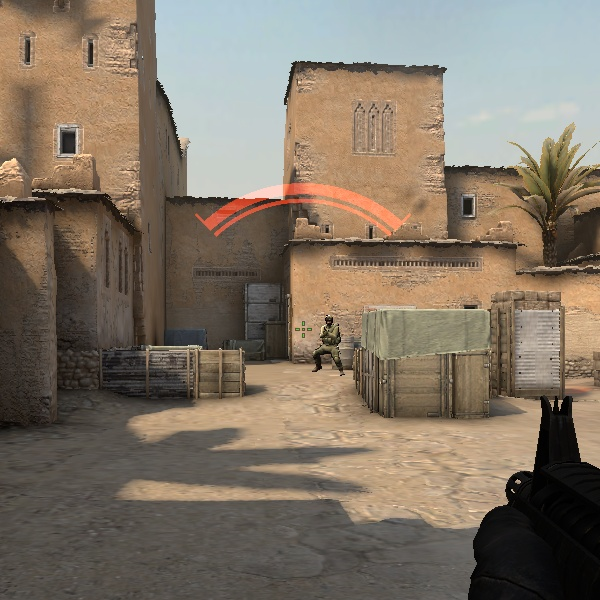ct_body: (311, 313, 345, 374)
ct_head: (322, 312, 338, 329)
